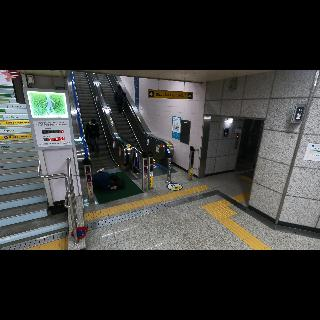anomaly: (91, 168, 123, 196)
normal: (82, 119, 101, 155), (114, 84, 125, 115)
